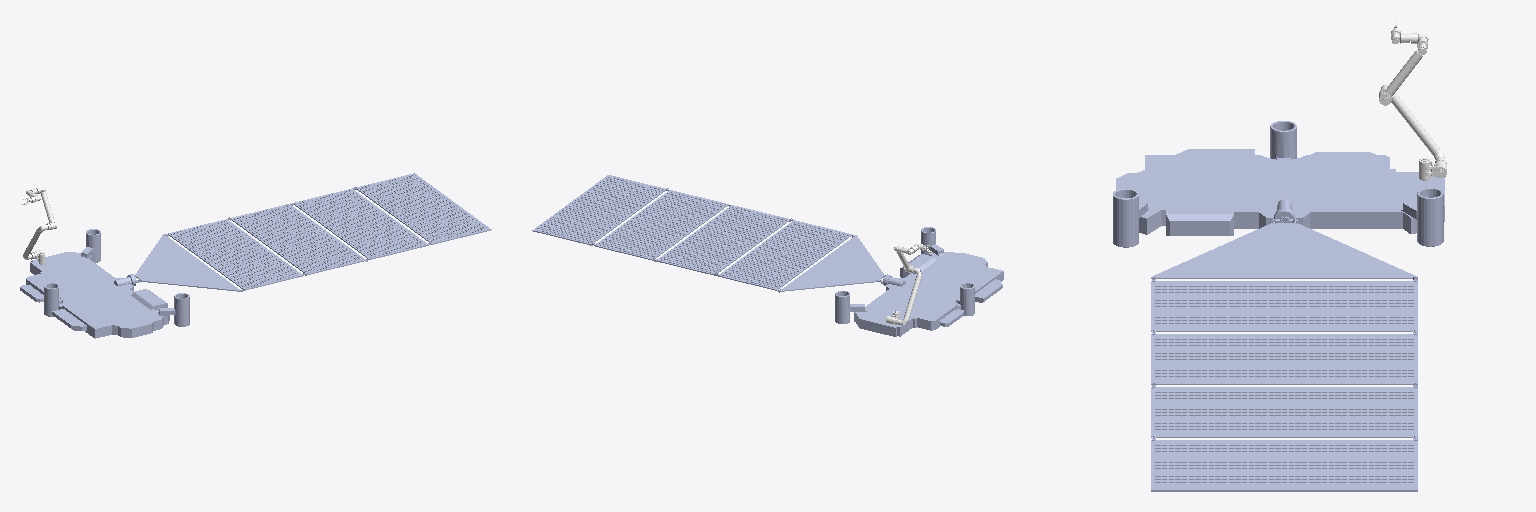
URDF robot description (starlink_combine_机械臂):
<?xml version="1.0" ?>
<robot name="starlink_combine_机械臂">
  <link name="starlink_base_star_link">
    <inertial>
      <origin xyz="0.064043 0.049818 0.075117" rpy="0 0 0"/>
      <mass value="365.27"/>
      <inertia ixx="166.05" ixy="0.9609" ixz="-0.9195" iyy="43.737" iyz="0.18316" izz="207.92"/>
    </inertial>
    <visual>
      <origin xyz="0 0 0" rpy="0 0 0"/>
      <geometry>
        <mesh filename="./meshes/base_star_link.STL"/>
      </geometry>
      <material name="">
        <color rgba="0.79216 0.81961 0.93333 1"/>
        <texture filename="./textures/1.png"/>
      </material>
    </visual>
    <collision>
      <origin xyz="0 0 0" rpy="0 0 0"/>
      <geometry>
        <mesh filename="./meshes/base_star_link.STL"/>
      </geometry>
    </collision>
  </link>
  <link name="starlink_panel_Link">
    <inertial>
      <origin xyz="0.18387 4.5116E-05 0.0089121" rpy="0 0 0"/>
      <mass value="146.07"/>
      <inertia ixx="45.09" ixy="7.5802E-12" ixz="-2.6455E-06" iyy="9.2979" iyz="-4.89E-13" izz="54.377"/>
    </inertial>
    <visual>
      <origin xyz="0 0 0" rpy="0 0 0"/>
      <geometry>
        <mesh filename="./meshes/panel_Link.STL"/>
      </geometry>
      <material name="">
        <color rgba="0.79216 0.81961 0.93333 1"/>
        <texture filename="./textures/5.png"/>
      </material>
    </visual>
    <collision>
      <origin xyz="0 0 0" rpy="0 0 0"/>
      <geometry>
        <mesh filename="./meshes/panel_Link.STL"/>
      </geometry>
    </collision>
  </link>
  <joint name="starlink_panel" type="fixed">
    <origin xyz="3.1501 0.12613 0.143" rpy="0 0 0"/>
    <parent link="starlink_base_star_link"/>
    <child link="starlink_panel_Link"/>
    <axis xyz="0 0 0"/>
  </joint>
  <link name="机械臂_base_link">
    <inertial>
      <origin xyz="0.1050000391408104 -0.770123991611868 0.05077538688393504" rpy="0 0 0"/>
      <mass value="2.080967403453504"/>
      <inertia ixx="0.009193472106664857" ixy="-3.962441295101589e-08" ixz="1.3379569434193902e-10" iyy="0.009193250114742535" iyz="3.2419205618954345e-18" izz="0.010668217572020798"/>
    </inertial>
    <visual>
      <origin xyz="0 0 0" rpy="0 0 0"/>
      <geometry>
        <mesh filename="./meshes/base_link.STL" scale="0.6 0.6 0.6"/>
      </geometry>
      <material name="">
        <color rgba="1 1 1 1"/>
      </material>
    </visual>
    <collision>
      <origin xyz="0 0 0" rpy="0 0 0"/>
      <geometry>
        <mesh filename="./meshes/base_link.STL" scale="0.6 0.6 0.6"/>
      </geometry>
    </collision>
  </link>
  <link name="机械臂_Link1">
    <inertial>
      <origin xyz="-0.060141842175474 -0.002067847510152528 0.104550210813291" rpy="0 0 0"/>
      <mass value="1.1177824453436707"/>
      <inertia ixx="0.002365629706244421" ixy="0.0001989048690739512" ixz="4.4053989711255855e-05" iyy="0.004079512483559413" iyz="-4.189674858307616e-06" izz="0.003402721818066399"/>
    </inertial>
    <visual>
      <origin xyz="0 0 0" rpy="0 0 0"/>
      <geometry>
        <mesh filename="./meshes/Link1.STL" scale="0.6 0.6 0.6"/>
      </geometry>
      <material name="">
        <color rgba="1 1 1 1"/>
      </material>
    </visual>
    <collision>
      <origin xyz="0 0 0" rpy="0 0 0"/>
      <geometry>
        <mesh filename="./meshes/Link1.STL" scale="0.6 0.6 0.6"/>
      </geometry>
    </collision>
  </link>
  <joint name="机械臂_joint1" type="revolute">
    <origin xyz="0.105 -0.7701239916160499 0.1080000000000126" rpy="0 0 -1.5707963267949"/>
    <parent link="机械臂_base_link"/>
    <child link="机械臂_Link1"/>
    <axis xyz="0 0 -1"/>
    <limit lower="0" upper="0" effort="0" velocity="0"/>
  </joint>
  <link name="机械臂_Link2">
    <inertial>
      <origin xyz="0.2800631839204722 -0.01204075251545358 0.3937674881340894" rpy="0 0 0"/>
      <mass value="1.0944091402151377"/>
      <inertia ixx="0.026988885565555672" ixy="8.129876044387839e-07" ixz="-0.0178285468843056" iyy="0.03894062496402364" iyz="1.1541283574546368e-06" izz="0.014602640624739895"/>
    </inertial>
    <visual>
      <origin xyz="0 0 0" rpy="0 0 0"/>
      <geometry>
        <mesh filename="./meshes/Link2.STL" scale="0.6 0.6 0.6"/>
      </geometry>
      <material name="">
        <color rgba="1 1 1 1"/>
      </material>
    </visual>
    <collision>
      <origin xyz="0 0 0" rpy="0 0 0"/>
      <geometry>
        <mesh filename="./meshes/Link2.STL" scale="0.6 0.6 0.6"/>
      </geometry>
    </collision>
  </link>
  <joint name="机械臂_joint2" type="revolute">
    <origin xyz="-0.119999999999823 -0.0984119999999676 0.1079999999995944" rpy="0 0 0"/>
    <parent link="机械臂_Link1"/>
    <child link="机械臂_Link2"/>
    <axis xyz="0 -1 0"/>
    <limit lower="0" upper="0" effort="0" velocity="0"/>
  </joint>
  <link name="机械臂_Link3">
    <inertial>
      <origin xyz="-0.159870710397336 -0.0476548392506028 0.22900673038286398" rpy="0 0 0"/>
      <mass value="0.6694854403638433"/>
      <inertia ixx="0.011594479364642299" ixy="-1.477111461934562e-06" ixz="0.007601709858493312" iyy="0.01705397851295453" iyz="2.1188956667673804e-06" izz="0.006012150605117954"/>
    </inertial>
    <visual>
      <origin xyz="0 0 0" rpy="0 0 0"/>
      <geometry>
        <mesh filename="./meshes/Link3.STL" scale="0.6 0.6 0.6"/>
      </geometry>
      <material name="">
        <color rgba="1 1 1 1"/>
      </material>
    </visual>
    <collision>
      <origin xyz="0 0 0" rpy="0 0 0"/>
      <geometry>
        <mesh filename="./meshes/Link3.STL" scale="0.6 0.6 0.6"/>
      </geometry>
    </collision>
  </link>
  <joint name="机械臂_joint3" type="revolute">
    <origin xyz="0.4173123894383922 0.1314120000002838 0.586728531453288" rpy="0 0 0"/>
    <parent link="机械臂_Link2"/>
    <child link="机械臂_Link3"/>
    <axis xyz="0 1 0"/>
    <limit lower="0" upper="0" effort="0" velocity="0"/>
  </joint>
  <link name="机械臂_Link4">
    <inertial>
      <origin xyz="0.02038665962660886 -0.0653567159549664 -3.009198223935528e-09" rpy="0 0 0"/>
      <mass value="0.2857940753340153"/>
      <inertia ixx="0.00031396999221123455" ixy="2.22626209965649e-07" ixz="-3.723347374052391e-12" iyy="0.00019886707703077282" iyz="-1.9678018984610034e-11" izz="0.0003038500622957394"/>
    </inertial>
    <visual>
      <origin xyz="0 0 0" rpy="0 0 0"/>
      <geometry>
        <mesh filename="./meshes/Link4.STL" scale="0.6 0.6 0.6"/>
      </geometry>
      <material name="">
        <color rgba="1 1 1 1"/>
      </material>
    </visual>
    <collision>
      <origin xyz="0 0 0" rpy="0 0 0"/>
      <geometry>
        <mesh filename="./meshes/Link4.STL" scale="0.6 0.6 0.6"/>
      </geometry>
    </collision>
  </link>
  <joint name="机械臂_joint4" type="revolute">
    <origin xyz="-0.2799123894308418 -0.1266599999010702 0.4009614124181688" rpy="0 0 0"/>
    <parent link="机械臂_Link3"/>
    <child link="机械臂_Link4"/>
    <axis xyz="0 1 0"/>
    <limit lower="0" upper="0" effort="0" velocity="0"/>
  </joint>
  <link name="机械臂_Link5">
    <inertial>
      <origin xyz="0.0700922969414466 -0.02333148088170558 5.6991387763716234e-05" rpy="0 0 0"/>
      <mass value="0.3232766369439453"/>
      <inertia ixx="0.00028149958834859564" ixy="2.2331853008314516e-07" ixz="-5.853941793132635e-10" iyy="0.0003197782967101846" iyz="1.6984624828739454e-07" izz="0.0003864819804987579"/>
    </inertial>
    <visual>
      <origin xyz="0 0 0" rpy="0 0 0"/>
      <geometry>
        <mesh filename="./meshes/Link5.STL" scale="0.6 0.6 0.6"/>
      </geometry>
      <material name="">
        <color rgba="1 1 1 1"/>
      </material>
    </visual>
    <collision>
      <origin xyz="0 0 0" rpy="0 0 0"/>
      <geometry>
        <mesh filename="./meshes/Link5.STL" scale="0.6 0.6 0.6"/>
      </geometry>
    </collision>
  </link>
  <joint name="机械臂_joint5" type="revolute">
    <origin xyz="0.0947999999922654 -0.106200000107286 0.0" rpy="0 0 0"/>
    <parent link="机械臂_Link4"/>
    <child link="机械臂_Link5"/>
    <axis xyz="-1 0 0"/>
    <limit lower="0" upper="0" effort="0" velocity="0"/>
  </joint>
  <link name="机械臂_Link6">
    <inertial>
      <origin xyz="1.368589255563714e-05 -0.01924843221738762 -3.2233277140747435e-07" rpy="0 0 0"/>
      <mass value="0.04879089667259618"/>
      <inertia ixx="1.5573469251104077e-05" ixy="8.749306765112387e-09" ixz="-6.924852573034451e-10" iyy="1.0451675784403172e-05" iyz="-3.797805092854349e-11" izz="1.3670827609307721e-05"/>
    </inertial>
    <visual>
      <origin xyz="0 0 0" rpy="0 0 0"/>
      <geometry>
        <mesh filename="./meshes/Link6.STL" scale="0.6 0.6 0.6"/>
      </geometry>
      <material name="">
        <color rgba="1 1 1 1"/>
      </material>
    </visual>
    <collision>
      <origin xyz="0 0 0" rpy="0 0 0"/>
      <geometry>
        <mesh filename="./meshes/Link6.STL" scale="0.6 0.6 0.6"/>
      </geometry>
    </collision>
  </link>
  <joint name="机械臂_joint6" type="revolute">
    <origin xyz="0.1061999999943918 -0.1007996968814946 0.0002471991114829206" rpy="-0.00245237457649197 0 0"/>
    <parent link="机械臂_Link5"/>
    <child link="机械臂_Link6"/>
    <axis xyz="0 -1 0"/>
    <limit lower="0" upper="0" effort="0" velocity="0"/>
  </joint>
  <link name="机械臂_Link7">
    <inertial>
      <origin xyz="-0.00010888684072196699 -0.019046899781386382 0.02388384865665636" rpy="0 0 0"/>
      <mass value="0.0068981411423250415"/>
      <inertia ixx="1.5636442028193218e-06" ixy="2.4322515429418676e-10" ixz="-6.892085318634177e-11" iyy="3.9619844482255744e-07" iyz="4.805079623059099e-07" izz="1.4835937842596029e-06"/>
    </inertial>
    <visual>
      <origin xyz="0 0 0" rpy="0 0 0"/>
      <geometry>
        <mesh filename="./meshes/Link7.STL" scale="0.6 0.6 0.6"/>
      </geometry>
      <material name="">
        <color rgba="1 1 1 1"/>
      </material>
    </visual>
    <collision>
      <origin xyz="0 0 0" rpy="0 0 0"/>
      <geometry>
        <mesh filename="./meshes/Link7.STL" scale="0.6 0.6 0.6"/>
      </geometry>
    </collision>
  </link>
  <joint name="机械臂_joint7" type="revolute">
    <origin xyz="0.0 -0.0327978 0.018360599999999998" rpy="0 0 0"/>
    <parent link="机械臂_Link6"/>
    <child link="机械臂_Link7"/>
    <axis xyz="1 0 0"/>
    <limit lower="0" upper="0" effort="0" velocity="0"/>
    <mimic joint="机械臂_joint8" multiplier="1" offset="0"/>
  </joint>
  <link name="机械臂_Link8">
    <inertial>
      <origin xyz="-3.0009935191799275e-05 -0.02629617746734086 0.0181103148839955" rpy="0 0 0"/>
      <mass value="0.005448926013115333"/>
      <inertia ixx="1.307038017625001e-06" ixy="-1.6488655247438497e-12" ixz="1.1911322233287137e-12" iyy="6.173144553558938e-07" iyz="5.894298257319867e-07" izz="1.0646527582139954e-06"/>
    </inertial>
    <visual>
      <origin xyz="0 0 0" rpy="0 0 0"/>
      <geometry>
        <mesh filename="./meshes/Link8.STL" scale="0.6 0.6 0.6"/>
      </geometry>
      <material name="">
        <color rgba="1 1 1 1"/>
      </material>
    </visual>
    <collision>
      <origin xyz="0 0 0" rpy="0 0 0"/>
      <geometry>
        <mesh filename="./meshes/Link8.STL" scale="0.6 0.6 0.6"/>
      </geometry>
    </collision>
  </link>
  <joint name="机械臂_joint8" type="revolute">
    <origin xyz="0.0 -0.0367068 0.007619999999999999" rpy="0 0 0"/>
    <parent link="机械臂_Link6"/>
    <child link="机械臂_Link8"/>
    <axis xyz="1 0 0"/>
    <limit lower="0" upper="45" effort="0" velocity="0"/>
  </joint>
  <link name="机械臂_Link11">
    <inertial>
      <origin xyz="-0.0001200000122648424 0.00108886123350531 0.005080647327527556" rpy="0 0 0"/>
      <mass value="0.001559431355844836"/>
      <inertia ixx="5.088652303527422e-08" ixy="-9.490955819308621e-17" ixz="-5.15370109358076e-14" iyy="5.037492522612108e-08" iyz="-1.1978208481430295e-08" izz="3.276964246141939e-08"/>
    </inertial>
    <visual>
      <origin xyz="0 0 0" rpy="0 0 0"/>
      <geometry>
        <mesh filename="./meshes/Link11.STL" scale="0.6 0.6 0.6"/>
      </geometry>
      <material name="">
        <color rgba="1 1 1 1"/>
      </material>
    </visual>
    <collision>
      <origin xyz="0 0 0" rpy="0 0 0"/>
      <geometry>
        <mesh filename="./meshes/Link11.STL" scale="0.6 0.6 0.6"/>
      </geometry>
    </collision>
  </link>
  <joint name="机械臂_joint11" type="revolute">
    <origin xyz="0.0 -0.049430999999999996 0.034008" rpy="0 0 0"/>
    <parent link="机械臂_Link8"/>
    <child link="机械臂_Link11"/>
    <axis xyz="1 0 0"/>
    <limit lower="0" upper="0" effort="0" velocity="0"/>
    <mimic joint="机械臂_joint8" multiplier="-1" offset="0"/>
  </joint>
  <link name="机械臂_Link9">
    <inertial>
      <origin xyz="-3.000967127544384e-05 -0.028922694834999478 -0.01352590950580692" rpy="0 0 0"/>
      <mass value="0.005448926184348578"/>
      <inertia ixx="1.3070381097257334e-06" ixy="-1.84907571880169e-12" ixz="-8.148629549775678e-13" iyy="4.358946233254878e-07" iyz="-4.830717912411341e-07" izz="1.246072690353781e-06"/>
    </inertial>
    <visual>
      <origin xyz="0 0 0" rpy="0 0 0"/>
      <geometry>
        <mesh filename="./meshes/Link9.STL" scale="0.6 0.6 0.6"/>
      </geometry>
      <material name="">
        <color rgba="1 1 1 1"/>
      </material>
    </visual>
    <collision>
      <origin xyz="0 0 0" rpy="0 0 0"/>
      <geometry>
        <mesh filename="./meshes/Link9.STL" scale="0.6 0.6 0.6"/>
      </geometry>
    </collision>
  </link>
  <joint name="机械臂_joint9" type="revolute">
    <origin xyz="0.0 -0.0367068 -0.007619999999999999" rpy="0 0 0"/>
    <parent link="机械臂_Link6"/>
    <child link="机械臂_Link9"/>
    <axis xyz="-1 0 0"/>
    <limit lower="0" upper="0" effort="0" velocity="0"/>
    <mimic joint="机械臂_joint8" multiplier="1" offset="0"/>
  </joint>
  <link name="机械臂_Link12">
    <inertial>
      <origin xyz="1.175393116170654e-11 0.001088861134154616 -0.005080647282113616" rpy="0 0 0"/>
      <mass value="0.00155943138219943"/>
      <inertia ixx="5.088652459017143e-08" ixy="9.495302324599752e-17" ixz="-5.14786652726423e-14" iyy="5.037492563186296e-08" iyz="1.1978208962163455e-08" izz="3.276964330328158e-08"/>
    </inertial>
    <visual>
      <origin xyz="0 0 0" rpy="0 0 0"/>
      <geometry>
        <mesh filename="./meshes/Link12.STL" scale="0.6 0.6 0.6"/>
      </geometry>
      <material name="">
        <color rgba="1 1 1 1"/>
      </material>
    </visual>
    <collision>
      <origin xyz="0 0 0" rpy="0 0 0"/>
      <geometry>
        <mesh filename="./meshes/Link12.STL" scale="0.6 0.6 0.6"/>
      </geometry>
    </collision>
  </link>
  <joint name="机械臂_joint12" type="revolute">
    <origin xyz="0.0 -0.0543378 -0.0254436" rpy="0 0 0"/>
    <parent link="机械臂_Link9"/>
    <child link="机械臂_Link12"/>
    <axis xyz="1 0 0"/>
    <limit lower="0" upper="0" effort="0" velocity="0"/>
    <mimic joint="机械臂_joint9" multiplier="1" offset="0"/>
  </joint>
  <link name="机械臂_Link10">
    <inertial>
      <origin xyz="1.638707312112684e-06 -0.02270495633756166 -0.02043786492607704" rpy="0 0 0"/>
      <mass value="0.006898151118959027"/>
      <inertia ixx="1.5636474746782574e-06" ixy="-2.511655133647182e-10" ixz="-2.807101392159337e-11" iyy="2.700006006220772e-07" iyz="-2.788082924532002e-07" izz="1.609796087604288e-06"/>
    </inertial>
    <visual>
      <origin xyz="0 0 0" rpy="0 0 0"/>
      <geometry>
        <mesh filename="./meshes/Link10.STL" scale="0.6 0.6 0.6"/>
      </geometry>
      <material name="">
        <color rgba="1 1 1 1"/>
      </material>
    </visual>
    <collision>
      <origin xyz="0 0 0" rpy="0 0 0"/>
      <geometry>
        <mesh filename="./meshes/Link10.STL" scale="0.6 0.6 0.6"/>
      </geometry>
    </collision>
  </link>
  <joint name="机械臂_joint10" type="revolute">
    <origin xyz="0.0 -0.0327978 -0.018360599999999998" rpy="0 0 0"/>
    <parent link="机械臂_Link6"/>
    <child link="机械臂_Link10"/>
    <axis xyz="1 0 0"/>
    <limit lower="0" upper="0" effort="0" velocity="0"/>
    <mimic joint="机械臂_joint9" multiplier="-1" offset="0"/>
  </joint>
  <joint name="starlink_机械臂_connection_joint" type="fixed">
    <parent link="starlink_base_star_link"/>
    <child link="机械臂_base_link"/>
    <origin xyz="-0.2 1.95 0" rpy="0 0 0"/>
  </joint>
</robot>

--- Render facts (derived) ---
3 views of the same robot in one strip: view 1: azimuth 30°, elevation 25°; view 2: azimuth 150°, elevation 25°; view 3: azimuth 270°, elevation 25° (orthographic).
Robot: starlink_combine_机械臂 — 15 links, 14 joints (12 revolute, 2 fixed); root link starlink_base_star_link; default pose: every joint at zero.
Links seen in each view (by area): view 1: starlink_panel_Link, starlink_base_star_link; view 2: starlink_panel_Link, starlink_base_star_link; view 3: starlink_panel_Link, starlink_base_star_link, 机械臂_Link2, 机械臂_Link3, 机械臂_Link1.
Boxes of the visible links, x1,y1,x2,y2 form: starlink_panel_Link: (133, 173, 491, 291); starlink_base_star_link: (20, 229, 189, 338); starlink_panel_Link: (532, 175, 884, 292); starlink_base_star_link: (835, 227, 1003, 336); starlink_panel_Link: (1151, 216, 1417, 491); starlink_base_star_link: (1113, 121, 1444, 247); 机械臂_Link2: (1379, 85, 1444, 159); 机械臂_Link3: (1379, 40, 1427, 105); 机械臂_Link1: (1419, 158, 1446, 180).
Bounding box of the posed robot: 6.16 × 2.51 × 1.31 m (x, y, z).
Meshes: 15 distinct files referenced, 14 mesh visuals loaded (14 binary STL); not drawn: 1 (reference not matched to a file when rendering).